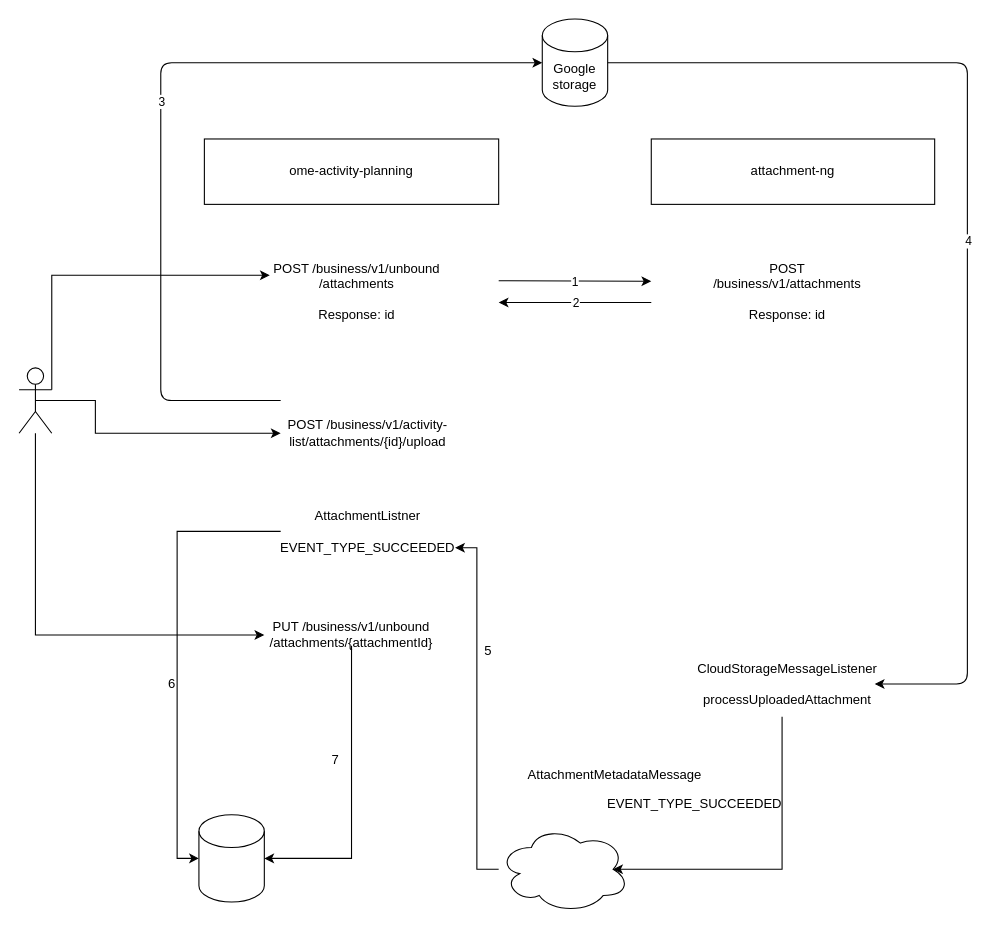
This 995x932 diagram has some shape labels left out. Each missing label, with the centre of its shape:
Actor: the point at 35,400
KAFKA: the point at 563,869
